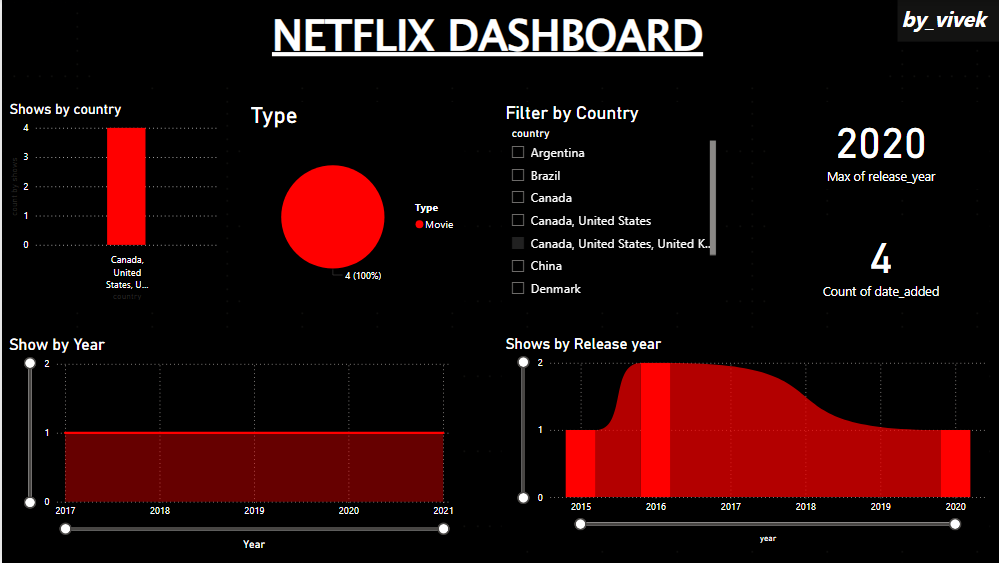

The dashboard page shown, as its layout file describes it:
{"tool":"powerbi","page":{"name":"Page 1","canvas":[1280,720],"ordinal":0},"visuals":[{"type":"pieChart","title":" Type","fields":{"Category":["netflix_titles.Type"],"Y":["CountNonNull(netflix_titles.country)"]},"box":[313.6,129.7,279.4,260.8],"z":0},{"type":"lineChart","title":" Show  by Year","fields":{"Category":["netflix_titles.date_added.Variation.Date Hierarchy.Year","netflix_titles.date_added.Variation.Date Hierarchy.Quarter","netflix_titles.date_added.Variation.Date Hierarchy.Month","netflix_titles.date_added.Variation.Date Hierarchy.Day"],"Y":["CountNonNull(netflix_titles.Show id)"]},"box":[4.4,427.6,578.9,280.7],"z":1000},{"type":"columnChart","title":"Shows by country","fields":{"Category":["netflix_titles.country"],"Y":["netflix_titles.count by shows"]},"box":[4.4,129.5,279.3,261.8],"z":2000},{"type":"ribbonChart","title":"Shows by Release year","fields":{"Y":["netflix_titles.count by shows"],"Category":["netflix_titles.release_year"]},"box":[640,427.6,624.3,270.8],"z":3000},{"type":"card","fields":{"Values":["Max(netflix_titles.release_year)"]},"box":[984.9,129.7,279.4,111.2],"z":4000},{"type":"slicer","title":"Filter by Country","fields":{"Values":["netflix_titles.country"]},"box":[640,129.7,279.4,260.8],"z":5000},{"type":"card","fields":{"Values":["CountNonNull(netflix_titles.date_added)"]},"box":[984.9,276.5,279.4,114],"z":6000},{"type":"textbox","box":[119.7,0,1004.9,106.9],"z":7000},{"type":"textbox","box":[1146.7,0,133.3,53.3],"z":8000}]}

Visuals, with their boxes in screenshot pixels (x1, y1, x2, y2), scaled from the page's 1280x720 canvas onto the 999x563 screenshot:
" Type" pieChart: pyautogui.locateOnScreen(245, 101, 463, 305)
" Show  by Year" lineChart: pyautogui.locateOnScreen(3, 334, 455, 554)
"Shows by country" columnChart: pyautogui.locateOnScreen(3, 101, 221, 306)
"Shows by Release year" ribbonChart: pyautogui.locateOnScreen(500, 334, 987, 546)
card - Max(netflix_titles.release_year): pyautogui.locateOnScreen(769, 101, 987, 188)
"Filter by Country" slicer: pyautogui.locateOnScreen(500, 101, 718, 305)
card - CountNonNull(netflix_titles.date_added): pyautogui.locateOnScreen(769, 216, 987, 305)
textbox: pyautogui.locateOnScreen(93, 0, 878, 84)
textbox: pyautogui.locateOnScreen(895, 0, 998, 42)
